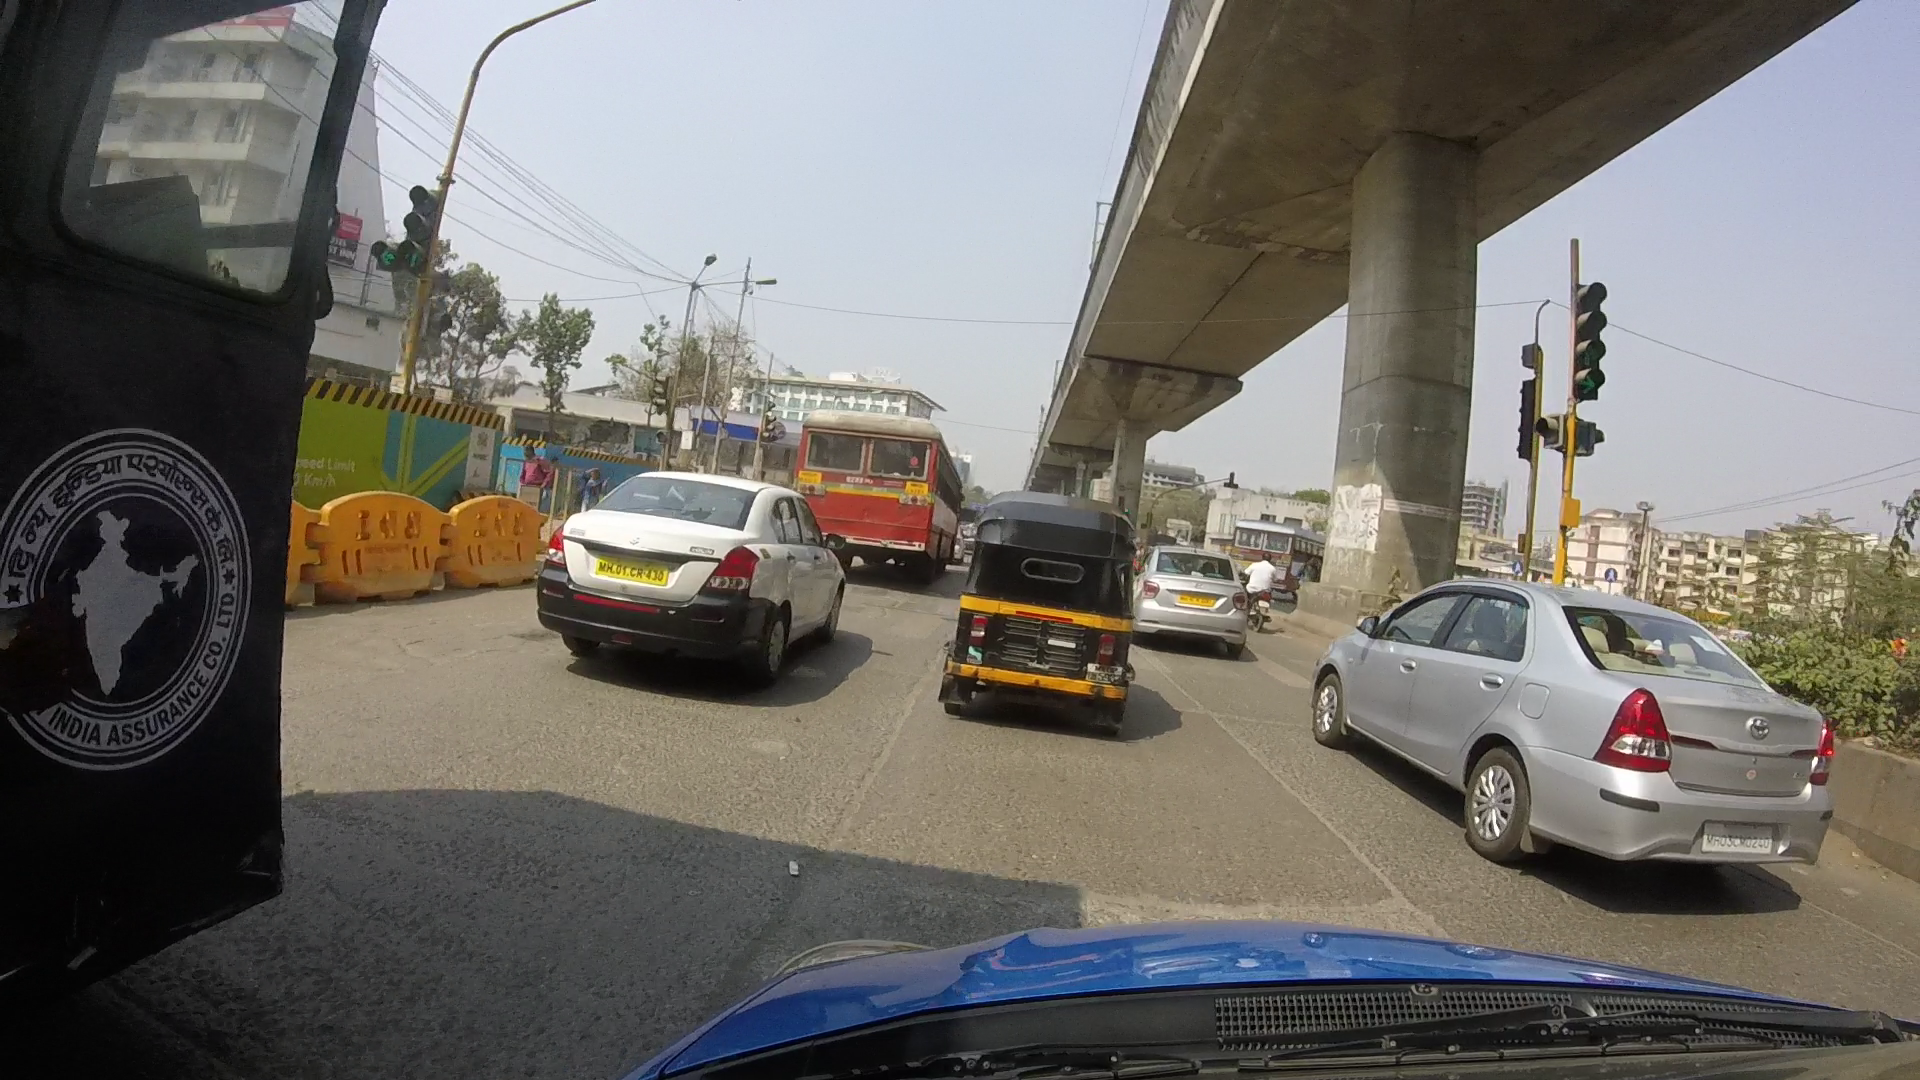bus: (802, 404, 963, 563)
car: (1302, 580, 1873, 880), (534, 463, 852, 686), (1116, 530, 1258, 642)
rickshaw: (934, 489, 1149, 736)
